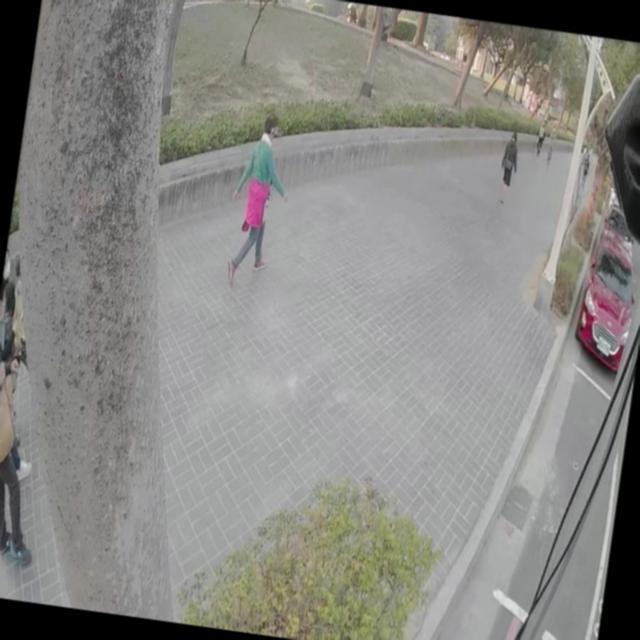person: (0, 283, 66, 564), (223, 110, 296, 284), (496, 130, 522, 207), (545, 121, 558, 163), (579, 149, 591, 186), (535, 121, 546, 153)
